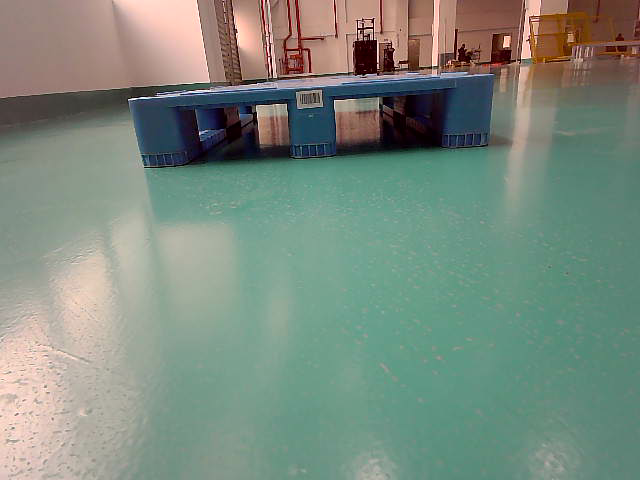block: (127, 94, 188, 169), (443, 75, 495, 148), (287, 86, 337, 156)
front: (129, 77, 497, 169)
hole pallet: (333, 87, 449, 153), (177, 100, 289, 163)
